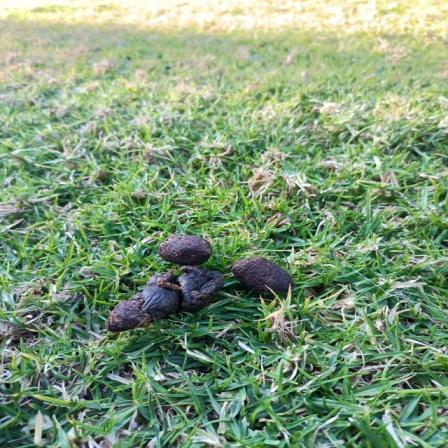dog-poop: (75, 219, 324, 342)
